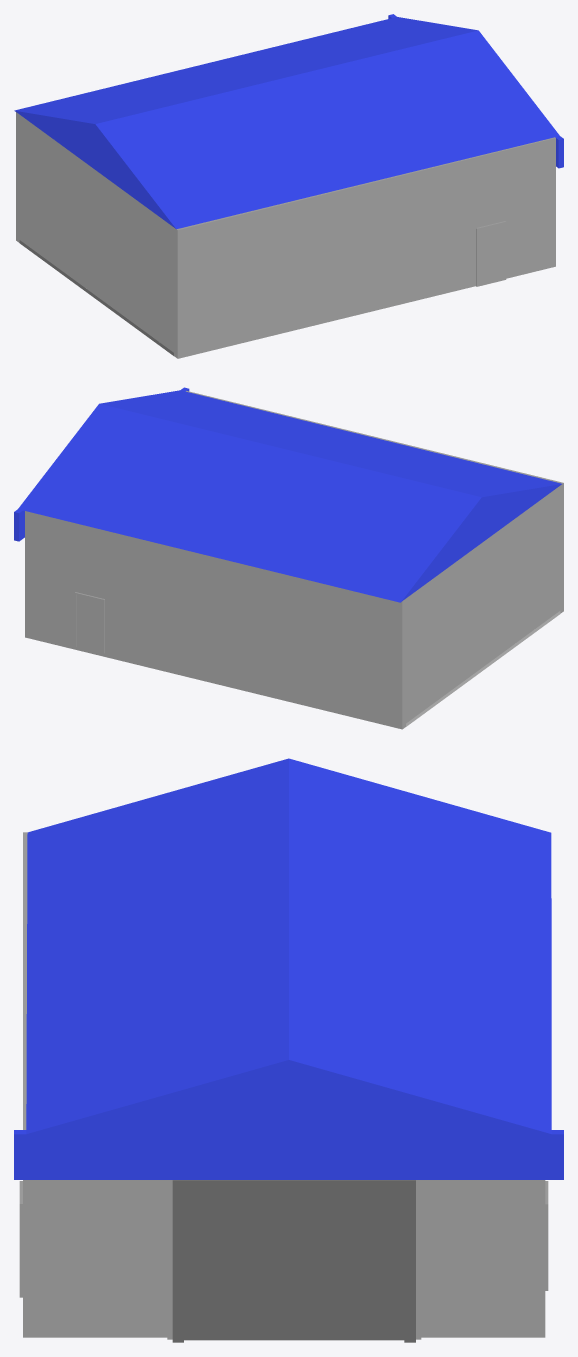
The model's file is wareHouse-transformed.glb.
3 views of the same model, one above another, from view 1: azimuth 30°, elevation 25°; view 2: azimuth 150°, elevation 25°; view 3: azimuth 270°, elevation 25° (orthographic). The views are drawn at different scales.
Visible parts, largest first — view 1: Plane.004, Plane, Plane.002, Plane.005, Plane.001; view 2: Plane.004, Plane.001, Plane.002, Plane, Plane.005; view 3: Plane.004, Plane.003, Plane.006, Plane, Plane.001.
Boxes of the visible parts, x1,y1,x2,y2 form: Plane.004: (14,14,563,229); Plane: (174,137,555,358); Plane.002: (19,115,173,352); Plane.005: (19,240,173,355); Plane.001: (16,112,19,242); Plane.004: (14,387,561,602); Plane.001: (25,511,405,729); Plane.002: (406,486,560,723); Plane: (186,391,563,613); Plane.005: (406,611,560,726); Plane.004: (14,758,563,1179); Plane.003: (35,1180,533,1339); Plane.006: (172,1180,415,1342); Plane: (19,832,34,1337); Plane.001: (533,1180,548,1337).
Size of the model in its own units: 31.45 by 13.67 by 24.15.
